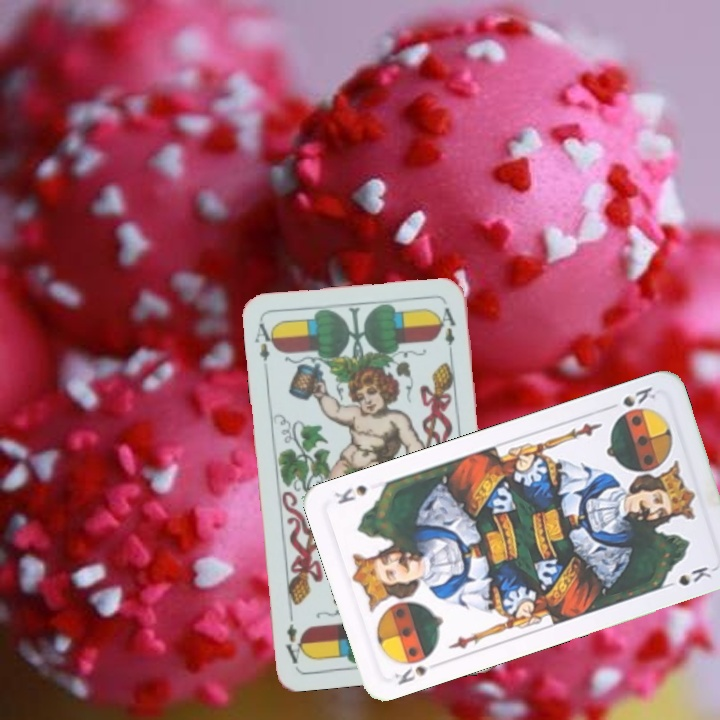EA: (251, 319, 279, 377)
SK: (602, 383, 659, 413), (390, 661, 432, 688)
